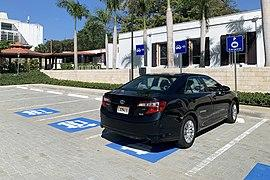Parking Lot Cars: (21, 73, 101, 143), (170, 34, 191, 57), (131, 40, 149, 59)
